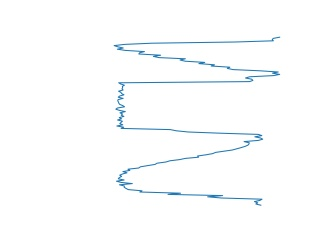distributaryChannelFill: (113, 73, 265, 144)
mouthBar: (111, 34, 283, 76)
underwaterDistributaryChannel: (114, 137, 264, 209)
